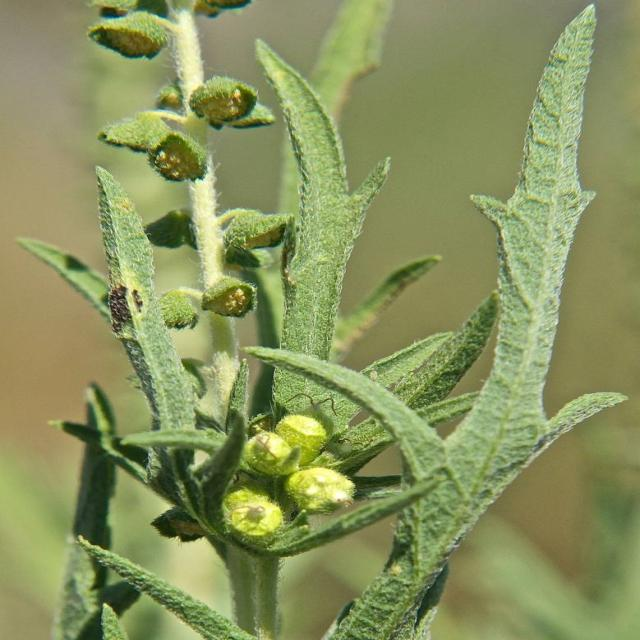ambrosia: (68, 10, 445, 552)
